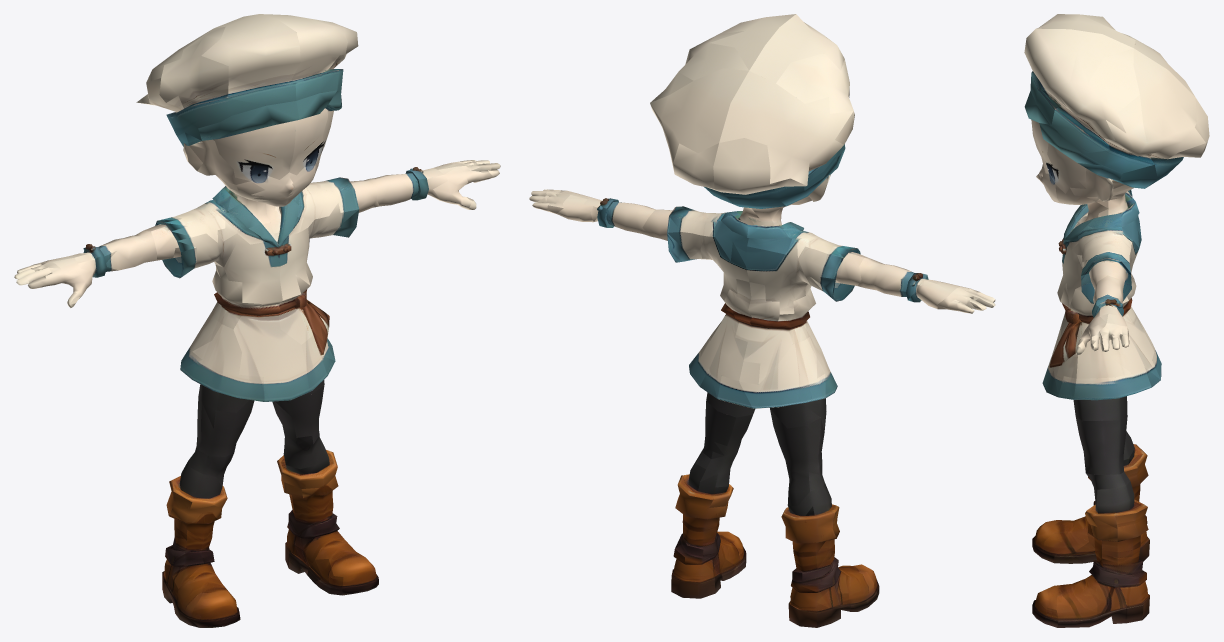
Rendered from travel2_meshy.glb.
3 renders of one model, left to right at view 1: azimuth 30°, elevation 25°; view 2: azimuth 150°, elevation 25°; view 3: azimuth 270°, elevation 25°, orthographic. The views are drawn at different scales.
Size of the model in its own units: 1.74 by 2 by 0.6029.
Materials: 1 (1 with a texture image).
